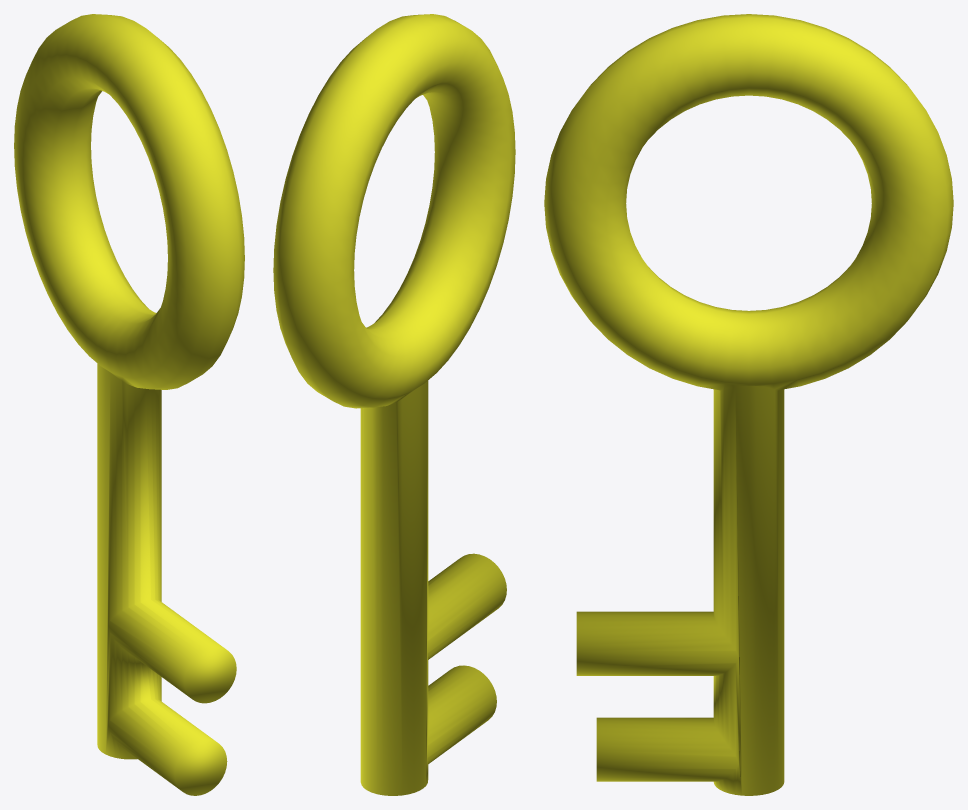
File: llave.fbx
3 views of the same model, side by side, from view 1: azimuth 30°, elevation 25°; view 2: azimuth 150°, elevation 25°; view 3: azimuth 270°, elevation 25° (orthographic). The views are drawn at different scales.
Parts seen in each view (by area): view 1: Torus; view 2: Torus; view 3: Torus.
Part boxes in pixels (box(x1,y1,x2,y2)): Torus: box(14, 14, 244, 795); Torus: box(273, 14, 515, 795); Torus: box(544, 14, 953, 795).
Size of the model in its own units: 50 by 515 by 250.
